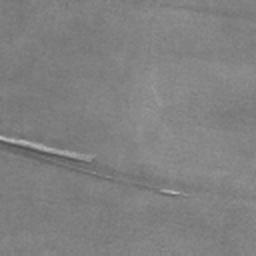Finishing roll printing: (0, 133, 183, 196)
